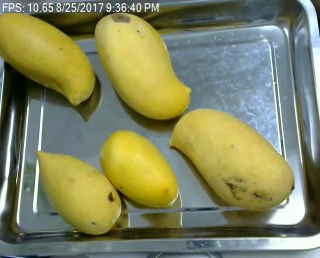Mango: (169, 103, 294, 215), (88, 9, 194, 120), (0, 3, 97, 114), (32, 146, 128, 234), (90, 126, 183, 207)
